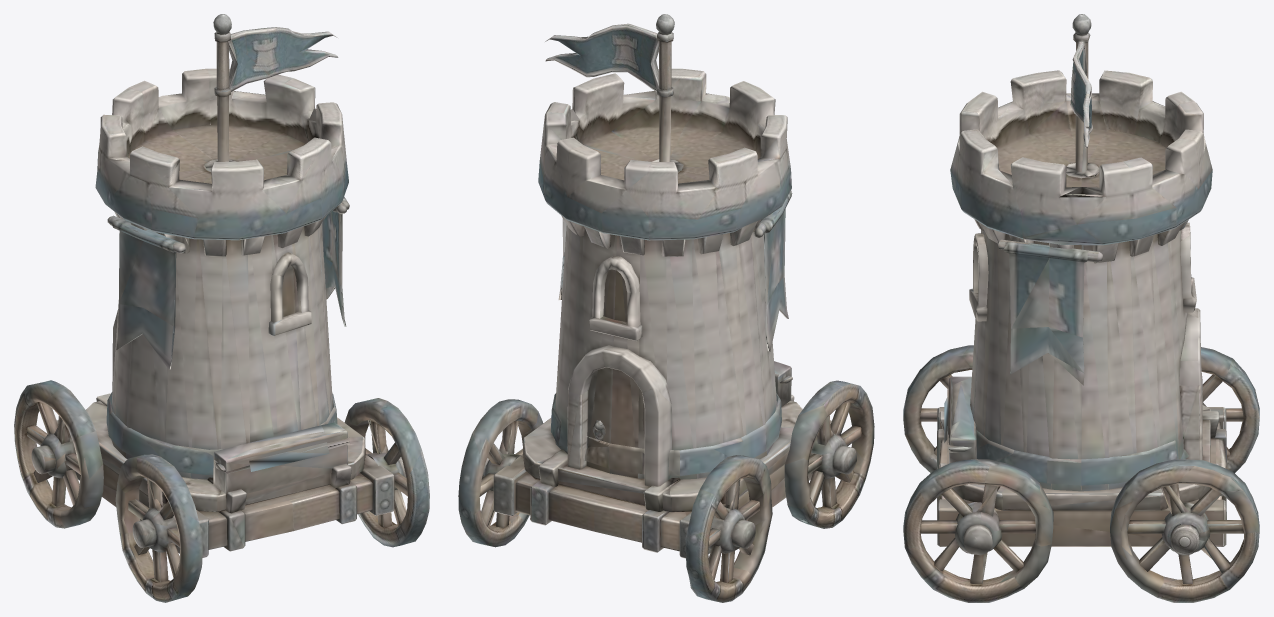
File: tower_light.glb
The picture shows the model from 3 angles, left to right: view 1: azimuth 30°, elevation 25°; view 2: azimuth 150°, elevation 25°; view 3: azimuth 270°, elevation 25°; orthographic projection. The views are drawn at different scales.
Parts seen in each view (by area): view 1: body, wheel_R0, wheel_R1, wheel_L0; view 2: body, wheel_R0, wheel_R1, wheel_L1; view 3: body, wheel_L0, wheel_L1, wheel_R0, wheel_R1.
Part boxes in pixels (x1=…): body: x1=57, y1=14, x2=391, y2=553; wheel_R0: x1=115, y1=454, x2=208, y2=602; wheel_R1: x1=14, y1=380, x2=103, y2=528; wheel_L0: x1=344, y1=398, x2=429, y2=547; body: x1=496, y1=14, x2=831, y2=554; wheel_R0: x1=784, y1=380, x2=874, y2=528; wheel_R1: x1=679, y1=455, x2=772, y2=602; wheel_L1: x1=458, y1=399, x2=543, y2=547; body: x1=937, y1=14, x2=1226, y2=546; wheel_L0: x1=903, y1=459, x2=1053, y2=602; wheel_L1: x1=1110, y1=459, x2=1259, y2=602; wheel_R0: x1=903, y1=345, x2=973, y2=472; wheel_R1: x1=1201, y1=347, x2=1259, y2=473.
Bounding box in the file's own units: 0.5181 × 0.9517 × 0.582.
1 material, 1 textured.
